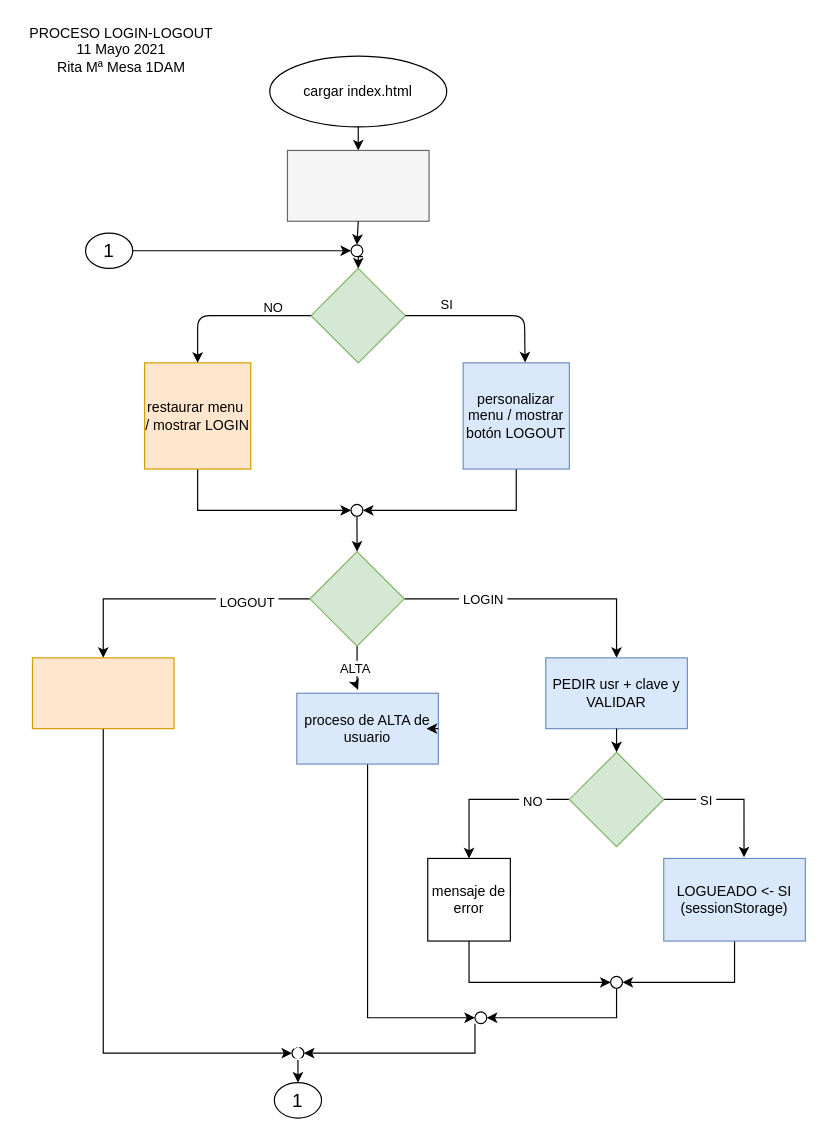
Image size: 826x1139. Some labels were removed from this diagram. Here are the shapes that lost their labels. From the top down, the centre of each, then its label:
the point at 357,185: Recuperar LOGUEADO (desde SessionStorage)
the point at 357,315: ¿hay usuario logueado ya?
the point at 356,598: ¿Alta, Login o Logout?
the point at 102,693: LOGUEADO <- NO (sessionStorage)
the point at 616,799: ¿correcto?
